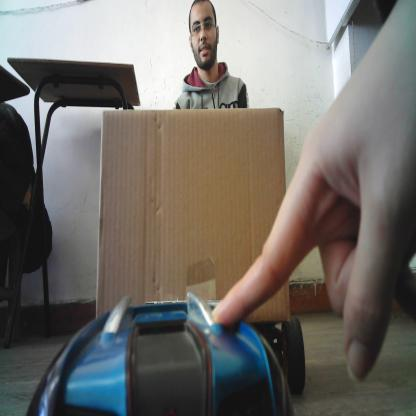LeadTruck: (96, 107, 310, 400)
